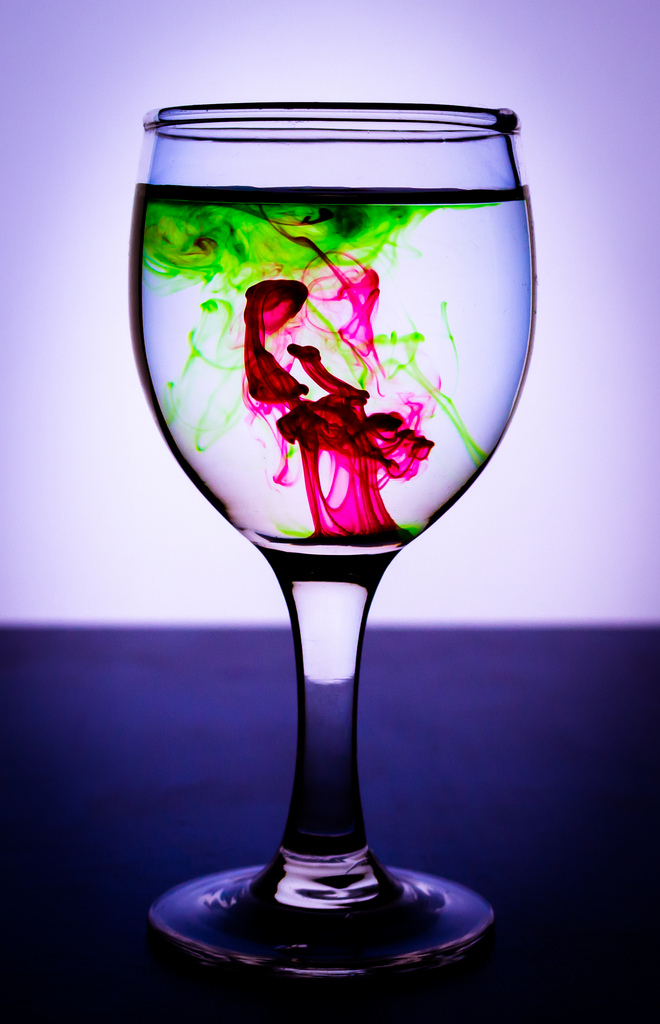glass of water: (113, 94, 565, 991)
